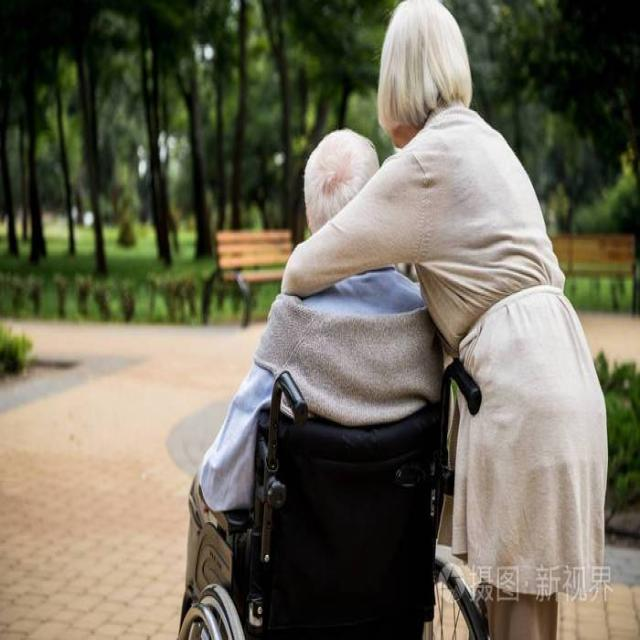wheelchairs: (172, 346, 504, 640)
